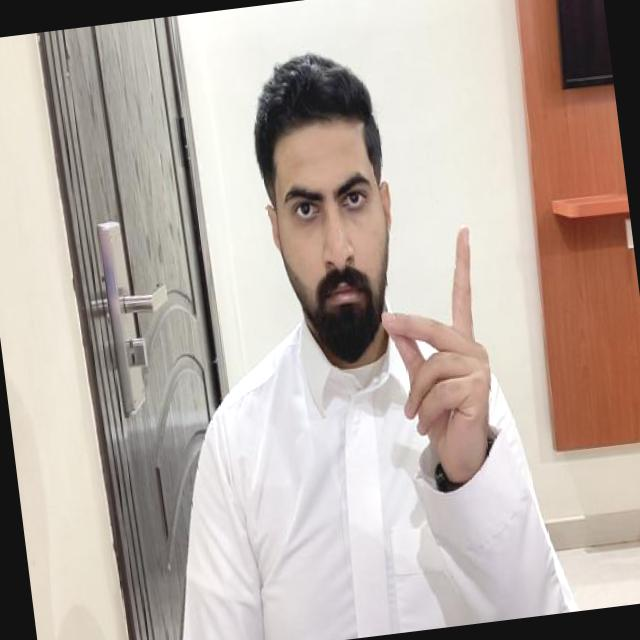emergency: (368, 222, 504, 489)
